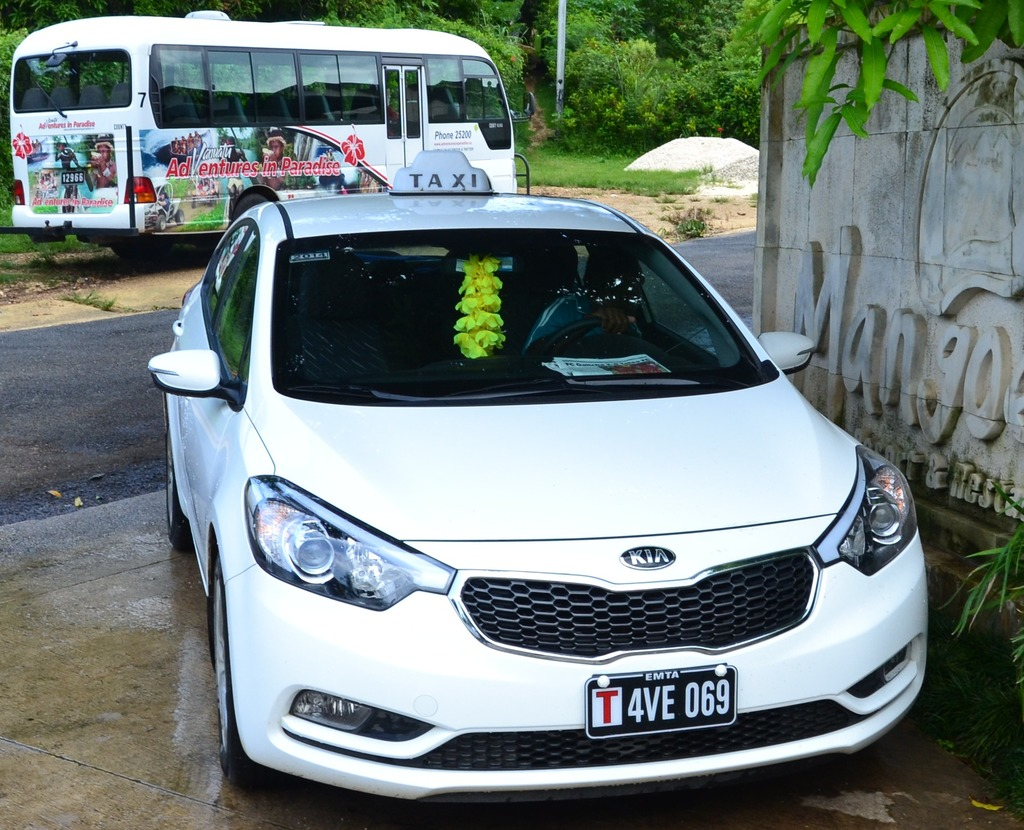Bus: (10, 9, 535, 257)
